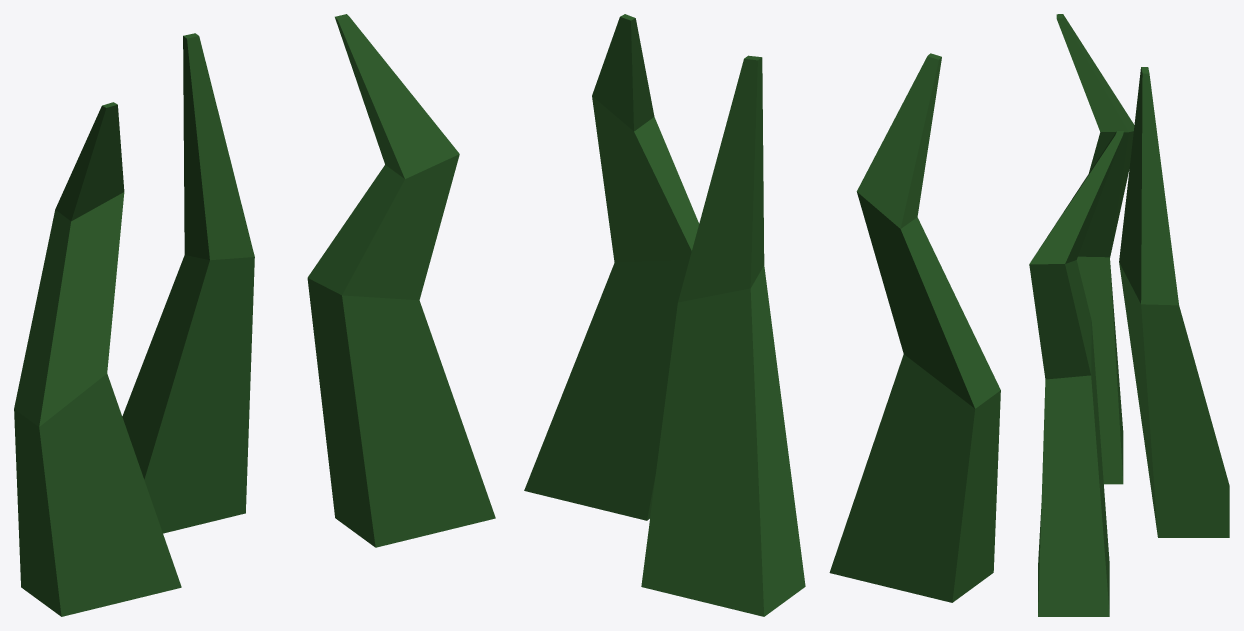
Rendered from grama.fbx.
The picture shows the model from 3 angles, left to right: view 1: azimuth 30°, elevation 25°; view 2: azimuth 150°, elevation 25°; view 3: azimuth 270°, elevation 25°; orthographic projection. The views are drawn at different scales.
Visible parts, largest first — view 1: grama; view 2: grama; view 3: grama.
Boxes of the visible parts, x1,y1,x2,y2 form: grama: [14, 14, 495, 616]; grama: [524, 14, 1000, 616]; grama: [1029, 14, 1229, 616].
Bounding box in the file's own units: 51.57 × 55.64 × 22.89.
